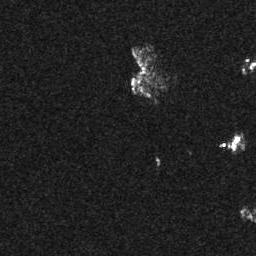ship: (227, 135, 242, 150)
